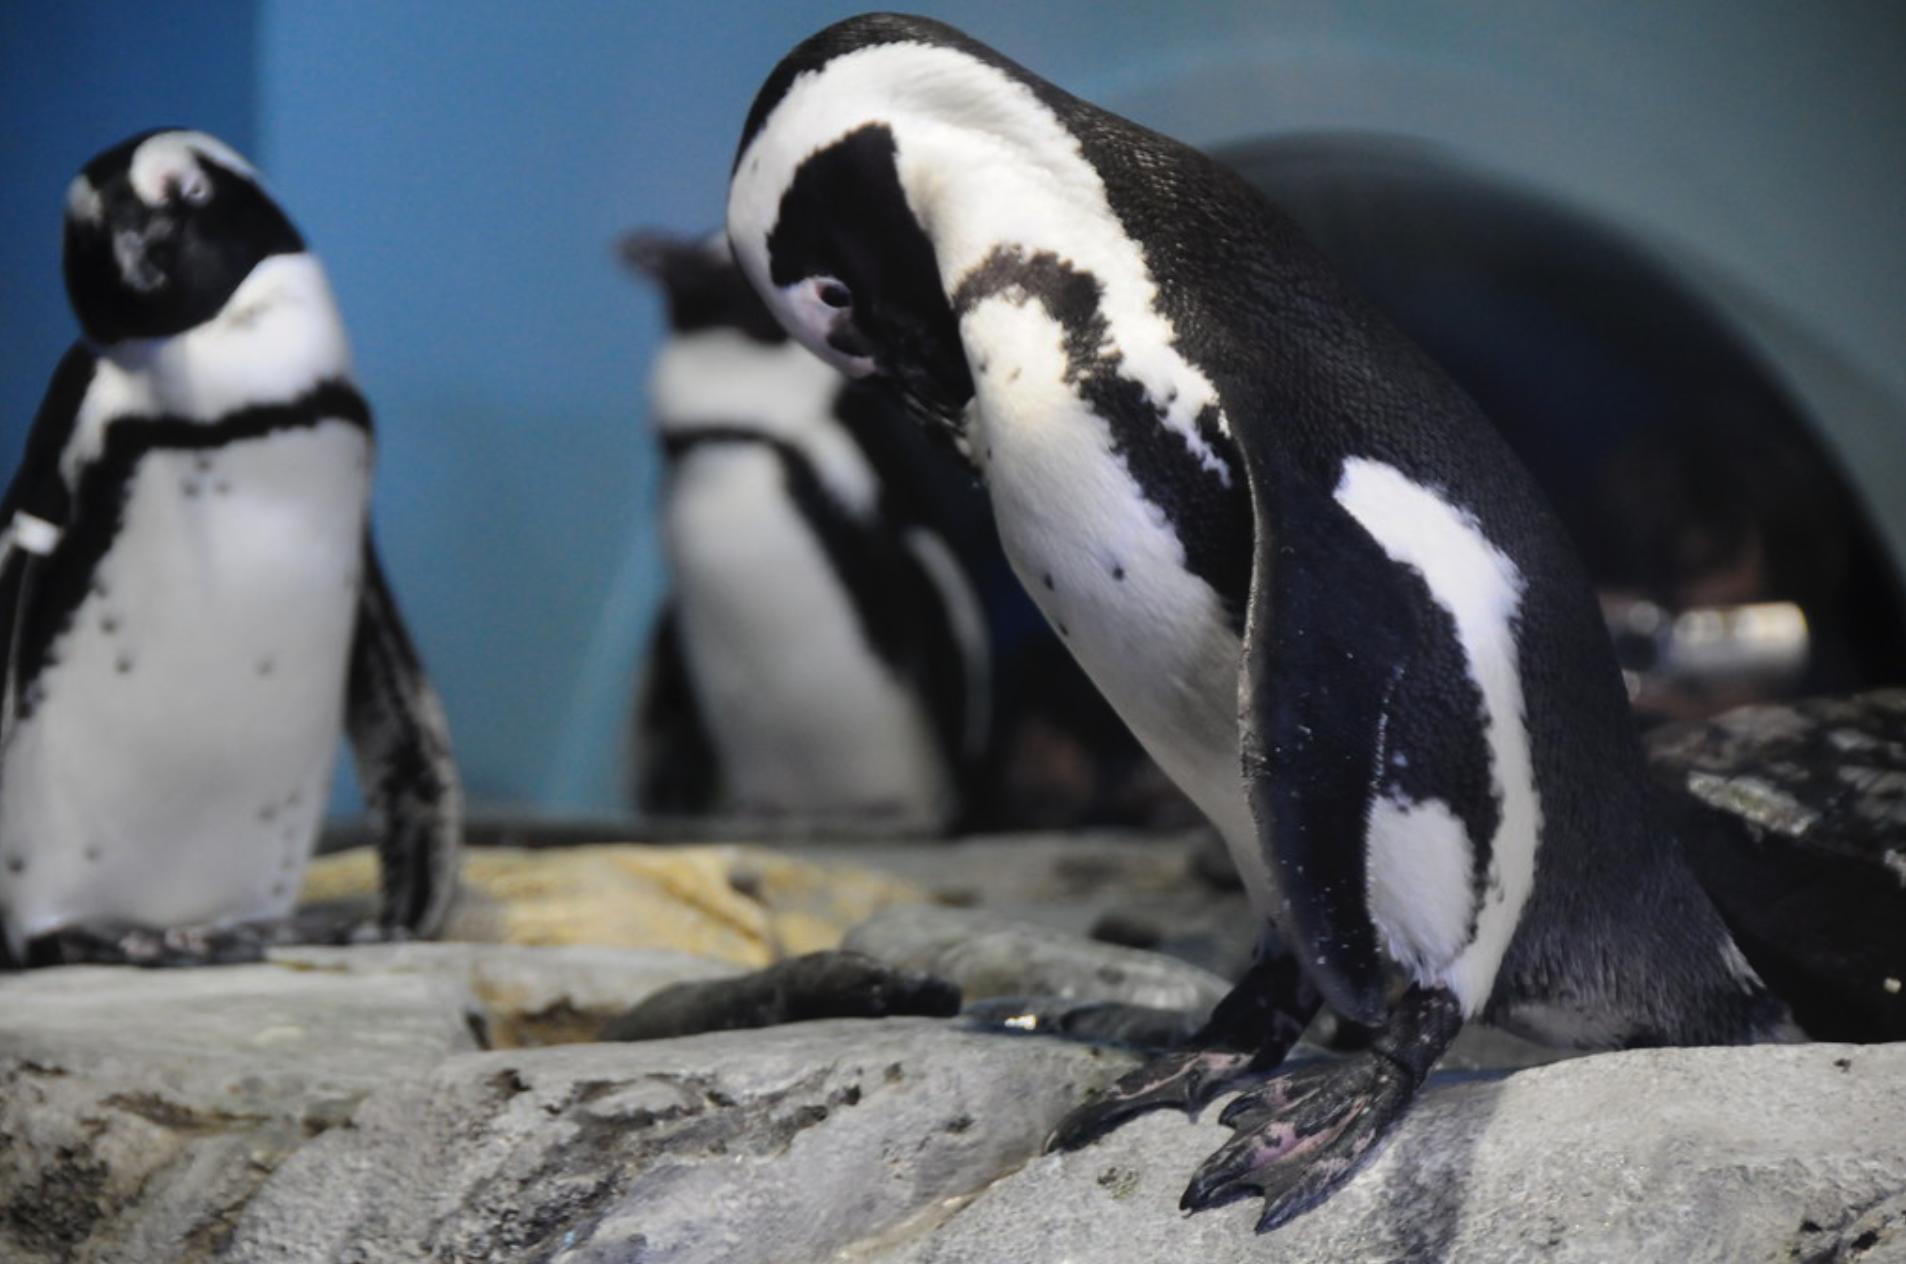penguin: (722, 10, 1833, 1230), (17, 111, 491, 973)
